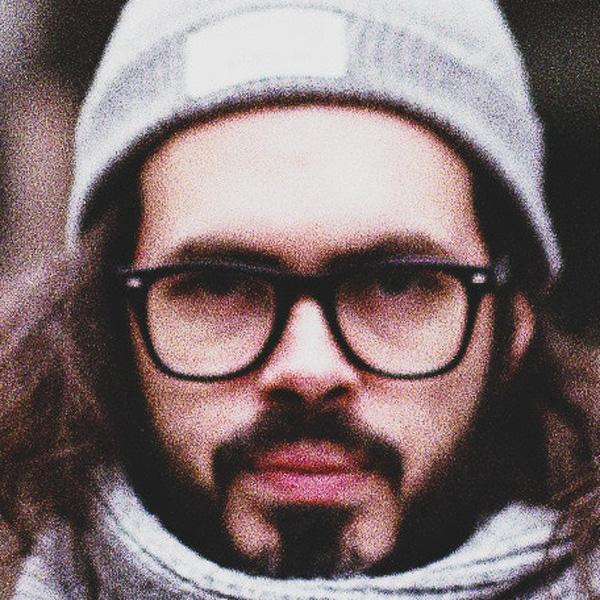Eyes: (162, 258, 276, 309), (348, 255, 451, 302)
